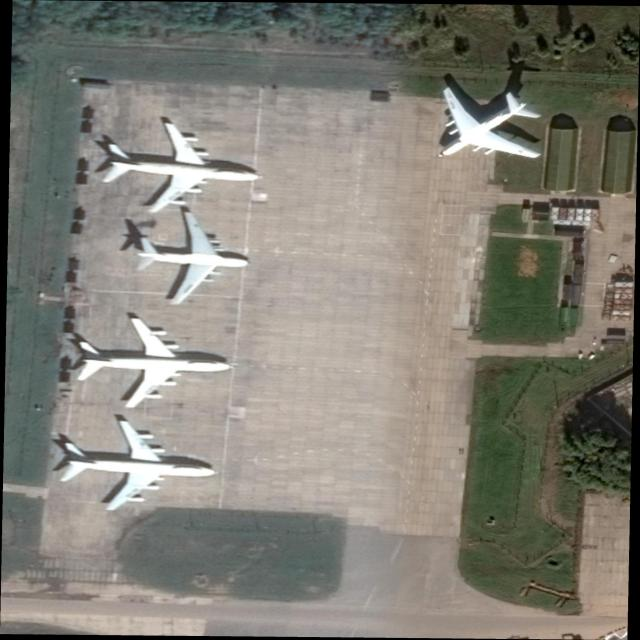plane: (395, 69, 568, 191), (96, 118, 269, 221), (75, 314, 236, 413), (58, 417, 221, 513), (129, 209, 256, 309)
